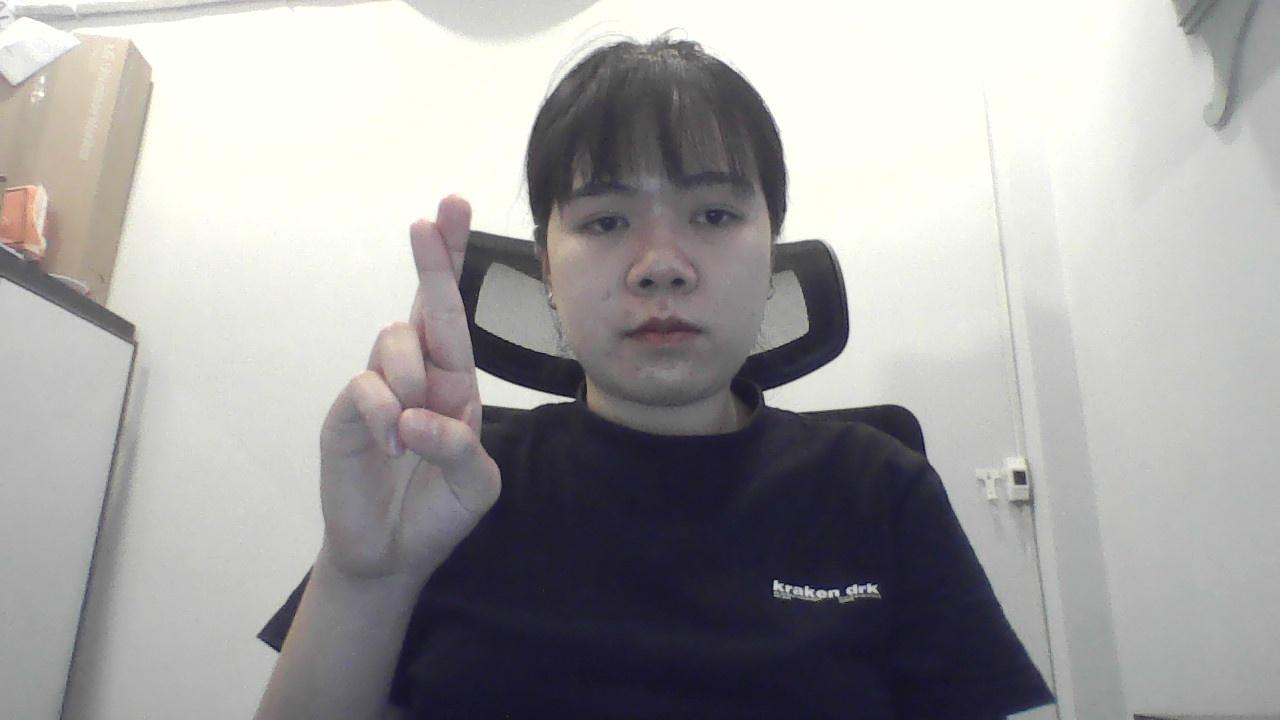R: (308, 180, 522, 584)
